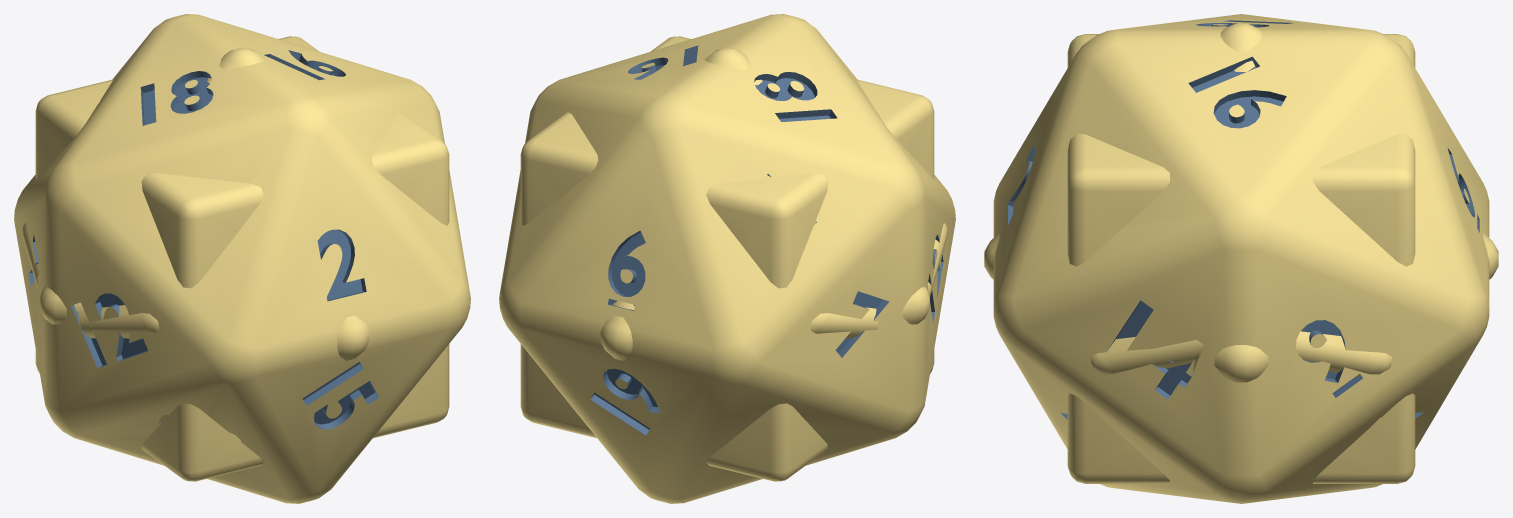
The model's file is dice.glb.
3 views of the same model, side by side, from view 1: azimuth 30°, elevation 25°; view 2: azimuth 150°, elevation 25°; view 3: azimuth 270°, elevation 25° (orthographic). The views are drawn at different scales.
Visible parts, largest first — view 1: d20, d6, d8, d10; view 2: d20, d6, d8, d10; view 3: d20, d6, d10, d8.
Boxes of the visible parts, box(x1,y1,x2,y2) form: d20: box(14, 14, 470, 503); d6: box(35, 36, 449, 481); d8: box(40, 47, 369, 360); d10: box(22, 223, 159, 338); d20: box(499, 14, 955, 503); d6: box(520, 36, 934, 481); d8: box(600, 47, 929, 360); d10: box(810, 223, 947, 338); d20: box(993, 14, 1489, 503); d6: box(1067, 34, 1415, 483); d10: box(1090, 331, 1392, 377); d8: box(984, 23, 1498, 382).
Size of the model in its own units: 2 by 2 by 2.
